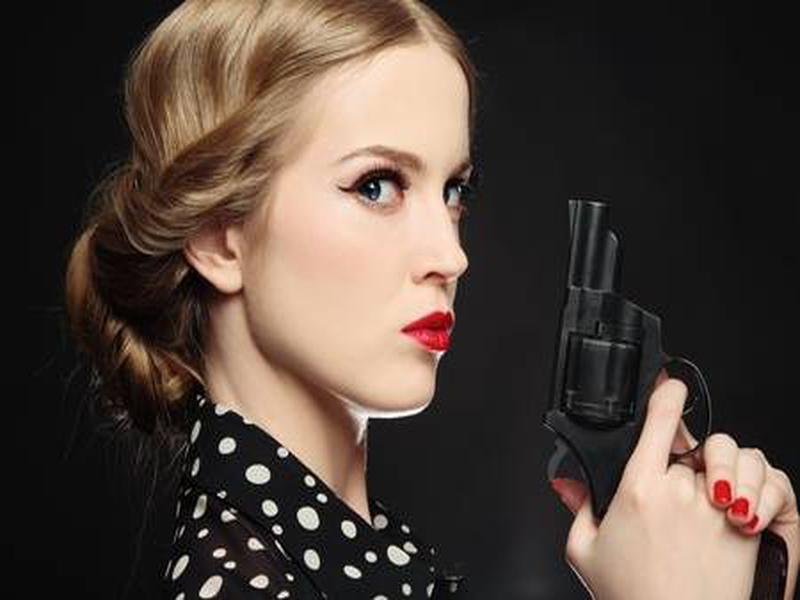Revolver: (547, 183, 716, 521)
